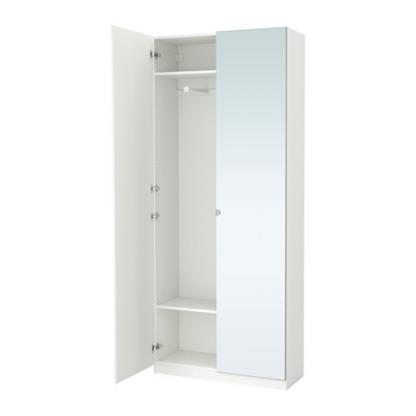Cabinet: (107, 22, 307, 394)
